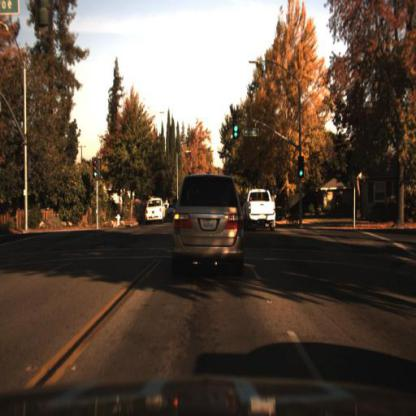car: (167, 172, 247, 284), (246, 186, 276, 231), (142, 192, 166, 226)
trafficLight: (232, 115, 240, 140)
trafficLight-Green: (298, 154, 306, 182)
trafficLight-GreenLeft: (90, 164, 100, 187)
